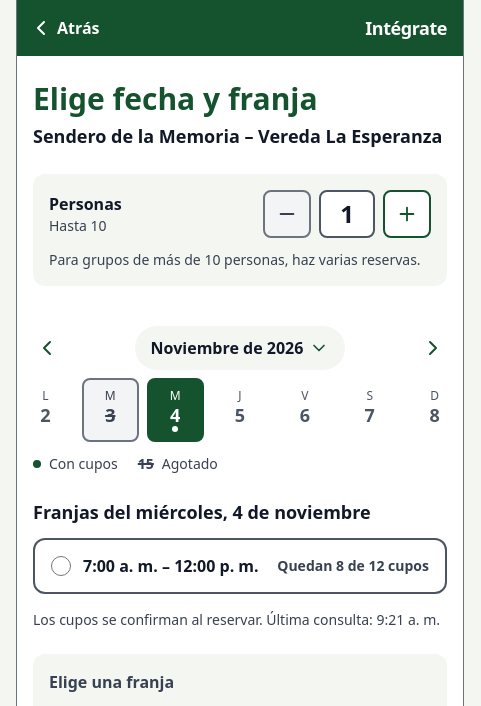
Test: selector de franjas (T-1.10b) › marca los días sin cupo y permite elegir otro día
The width and height of the screenshot is (481, 706).
Click the button named ": agotado": (110, 410) [82,378,139,442]
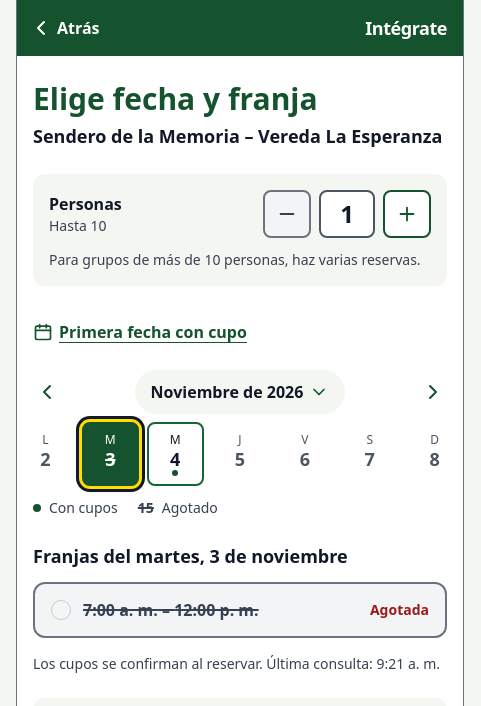
Check: the radio button is disabled, box [51,600,71,620]
